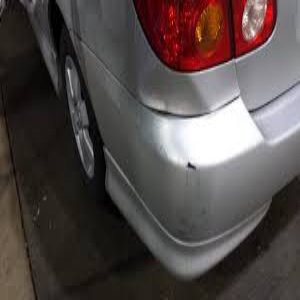bumper_scratch: (136, 138, 225, 219)
